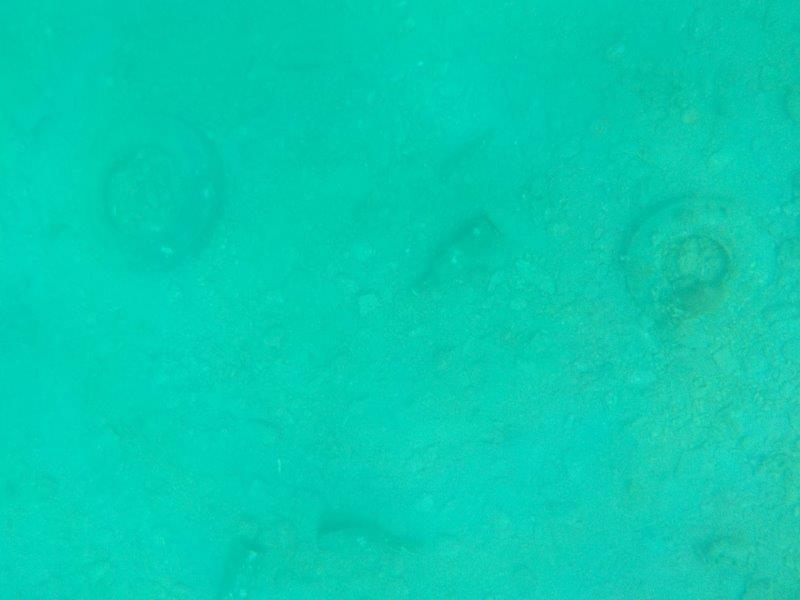bottle: (407, 213, 508, 301), (311, 520, 426, 563)
tire: (72, 106, 231, 278), (619, 194, 780, 354)
